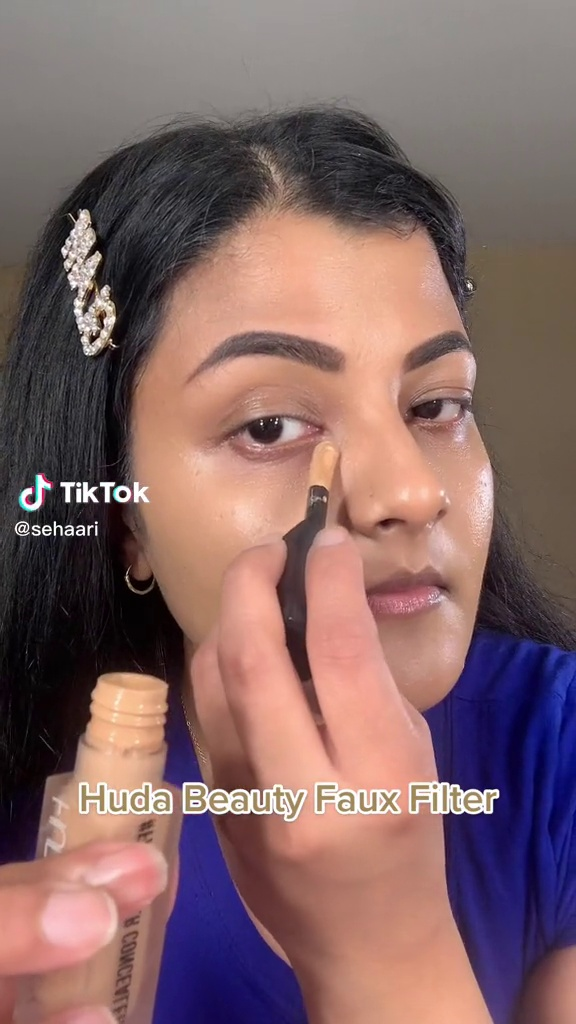train' :'yolo_data/train/images',: (21, 666, 195, 1023), (267, 430, 359, 683)
